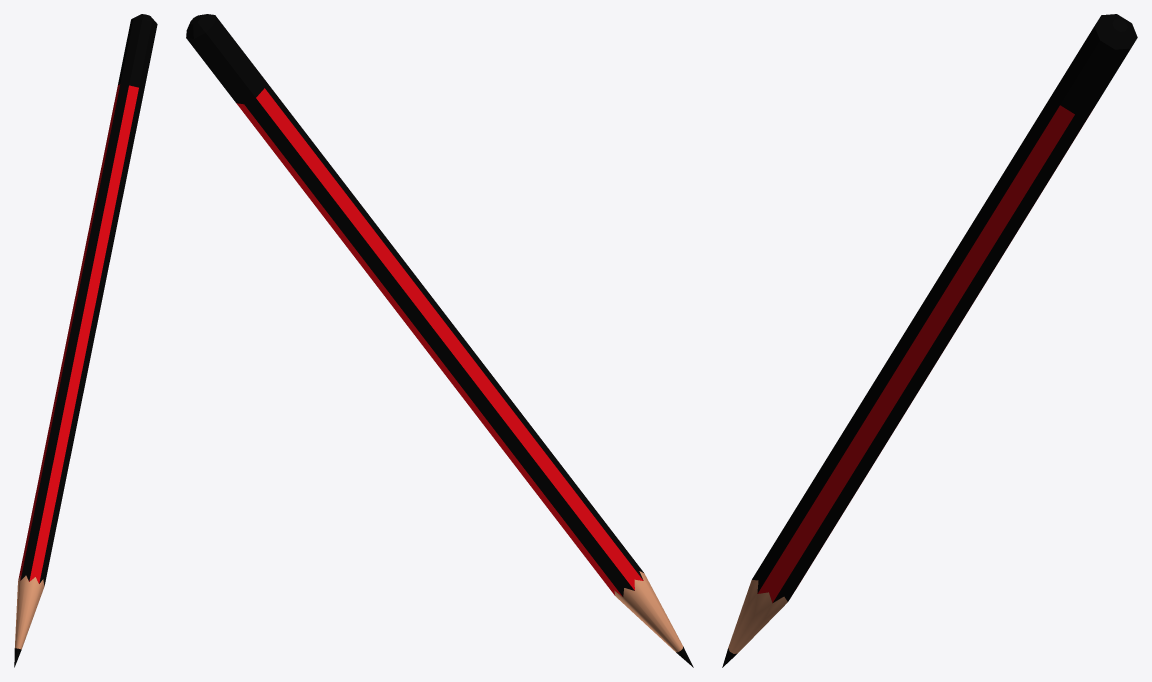
The model's file is pencil_1.glb.
3 views of the same model, side by side, from view 1: azimuth 30°, elevation 25°; view 2: azimuth 150°, elevation 25°; view 3: azimuth 270°, elevation 25° (orthographic). The views are drawn at different scales.
Visible parts, largest first — view 1: e67db84c8d2442519353afbae5220de0; view 2: e67db84c8d2442519353afbae5220de0; view 3: e67db84c8d2442519353afbae5220de0.
Boxes of the visible parts, left/top/right/bottom form: e67db84c8d2442519353afbae5220de0: left=14, top=14, right=157, bottom=667; e67db84c8d2442519353afbae5220de0: left=186, top=14, right=693, bottom=667; e67db84c8d2442519353afbae5220de0: left=722, top=14, right=1137, bottom=667.
Bounding box in the file's own units: 0.5293 × 0.9953 × 0.4404.
